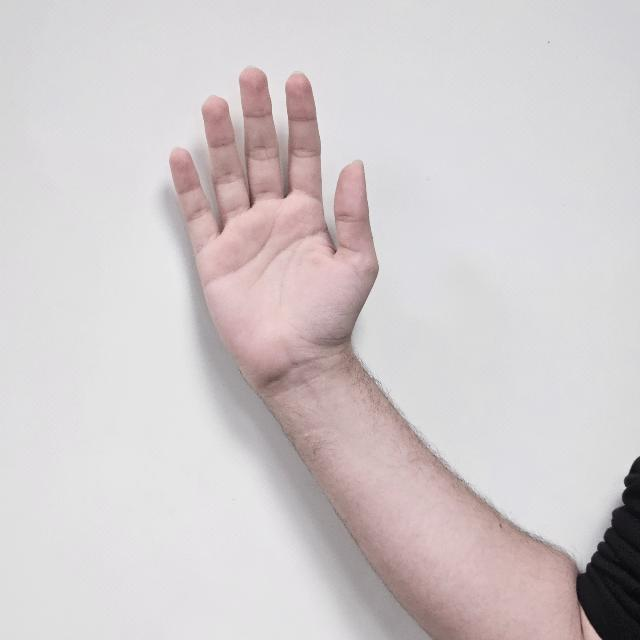X: (146, 64, 414, 416)
